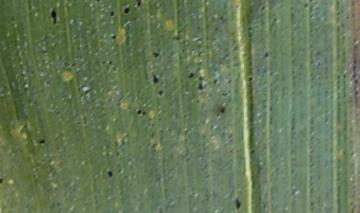tarspot: (48, 8, 61, 27), (231, 194, 244, 211), (102, 57, 119, 70), (34, 136, 49, 150), (150, 49, 162, 61), (260, 49, 272, 61), (193, 83, 206, 94), (218, 104, 228, 118), (105, 169, 116, 181), (149, 73, 161, 84), (106, 10, 119, 20), (119, 6, 134, 14), (248, 147, 258, 159), (135, 107, 146, 117), (155, 87, 165, 98), (246, 73, 256, 84), (109, 33, 120, 42), (133, 1, 147, 8), (187, 70, 196, 80), (1, 177, 6, 183)
